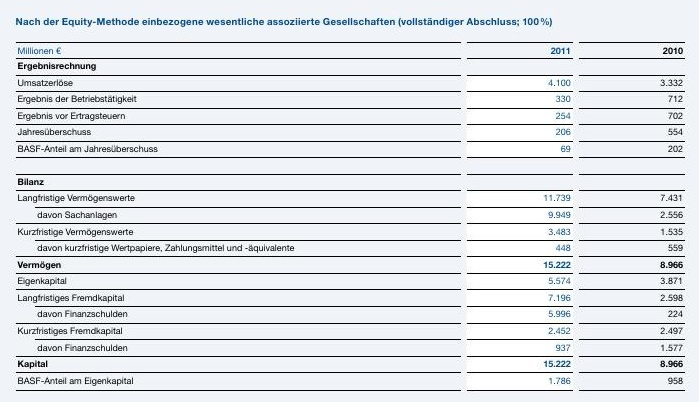table: (0, 0, 699, 402)
